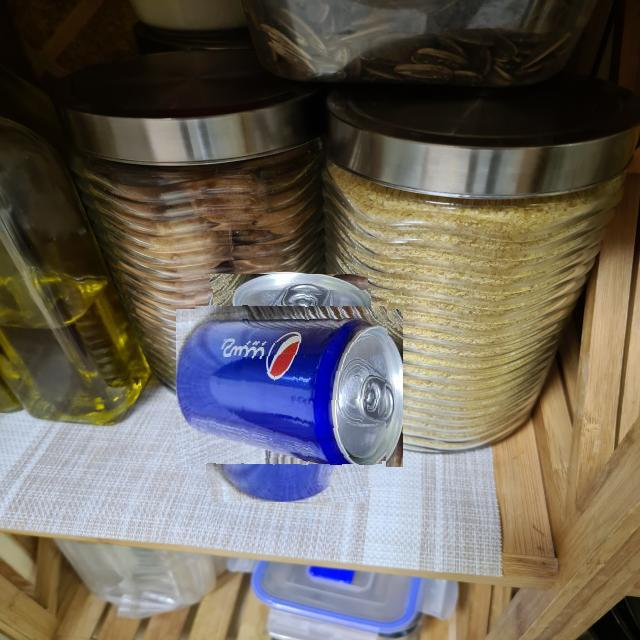recyclable: (191, 290, 387, 486)
